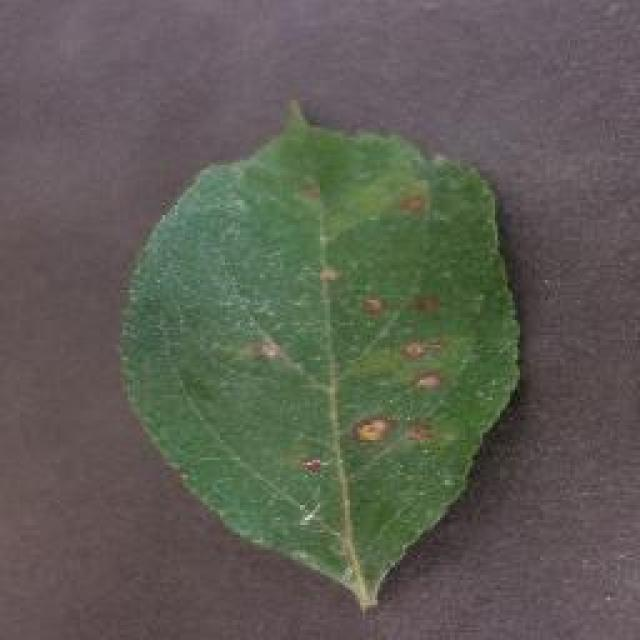apple scab disease: (115, 95, 523, 613)
